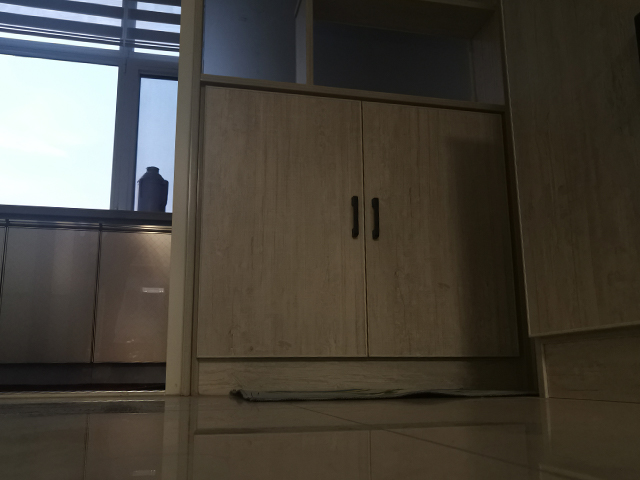cabinet: (182, 90, 527, 398), (1, 202, 172, 390)
carpet: (228, 387, 539, 404)
